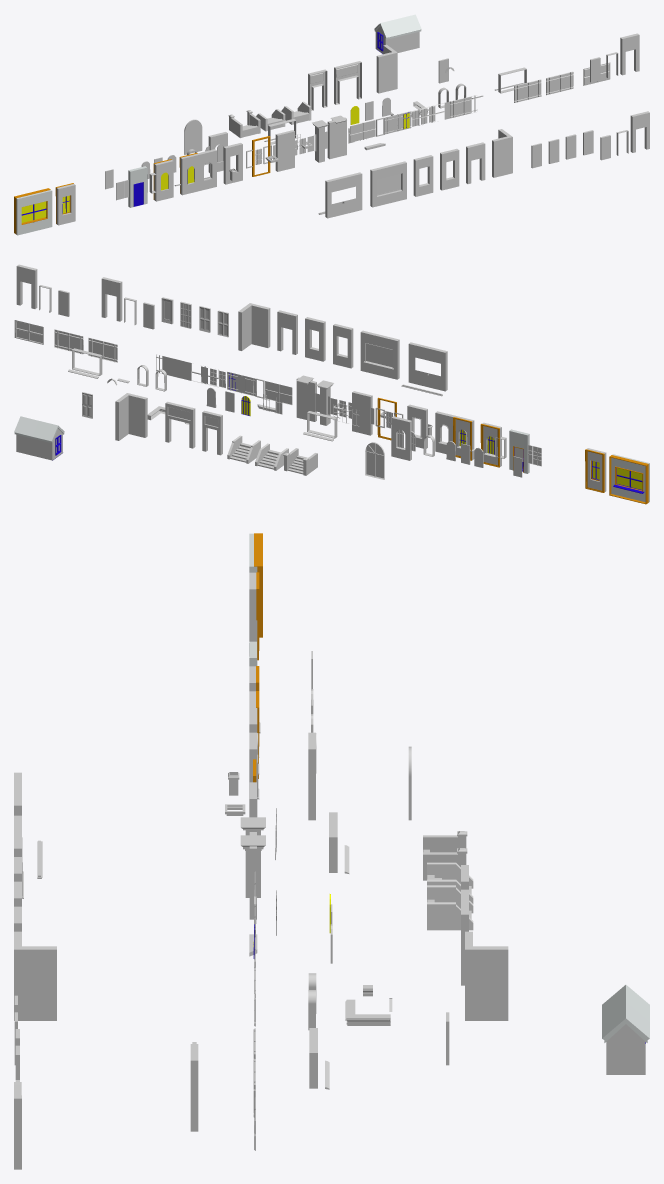
File: Modular Parts 01.fbx
3 renders of one model, top to bottom at view 1: azimuth 30°, elevation 25°; view 2: azimuth 150°, elevation 25°; view 3: azimuth 270°, elevation 25°, orthographic. The views are drawn at different scales.
Visible parts, largest first — view 1: Rectangular Window Wall 04, Rectangular Window Wall 03, Rectangular Window Wall 03.003, Side wall 01.004, Side wall 01, Wall 00.001, Long Door way wall 01, Roof top window piece 01.005, Cube.022, Rectangular Window Wall 01, Rectangular Window Wall 02, Cube (+20 smaller); view 2: Side wall 01.004, Side wall 01, Rectangular Window Wall 04, Rectangular Window Wall 03, Rectangular Window Wall 03.003, Long Door way wall 01, Cube, Wall 00.001, Roof top window piece 01.005, Cube.022, Rectangular Window Wall 02, Rectangular Window Wall 01 (+22 smaller); view 3: Side wall 01.004, Side wall 01, Roof top window piece 01.005, Cube, Wall 00.003.
Boxes of the visible parts, <box> form: Rectangular Window Wall 04: <box>325,172,362,218</box>; Rectangular Window Wall 03: <box>370,161,406,207</box>; Rectangular Window Wall 03.003: <box>16,190,52,235</box>; Side wall 01.004: <box>376,44,397,93</box>; Side wall 01: <box>492,129,512,177</box>; Wall 00.001: <box>275,130,294,171</box>; Long Door way wall 01: <box>334,61,361,104</box>; Roof top window piece 01.005: <box>374,14,421,39</box>; Cube.022: <box>327,117,346,159</box>; Rectangular Window Wall 01: <box>413,155,433,196</box>; Rectangular Window Wall 02: <box>440,148,459,190</box>; Cube: <box>375,26,419,53</box>; Side wall 01.004: <box>115,393,147,440</box>; Side wall 01: <box>238,303,270,350</box>; Rectangular Window Wall 04: <box>408,342,447,391</box>; Rectangular Window Wall 03: <box>360,330,399,379</box>; Rectangular Window Wall 03.003: <box>611,454,649,502</box>; Long Door way wall 01: <box>165,401,195,448</box>; Cube: <box>16,429,62,460</box>; Wall 00.001: <box>352,391,372,435</box>; Roof top window piece 01.005: <box>14,416,64,442</box>; Cube.022: <box>296,377,316,421</box>; Rectangular Window Wall 02: <box>305,317,325,361</box>; Rectangular Window Wall 01: <box>333,324,353,368</box>; Side wall 01.004: <box>465,931,508,1020</box>; Side wall 01: <box>14,931,56,1020</box>; Roof top window piece 01.005: <box>602,985,649,1042</box>; Cube: <box>606,1024,645,1074</box>; Wall 00.003: <box>427,902,473,930</box>.
Size of the model in its own units: 7000 by 800 by 3242.
